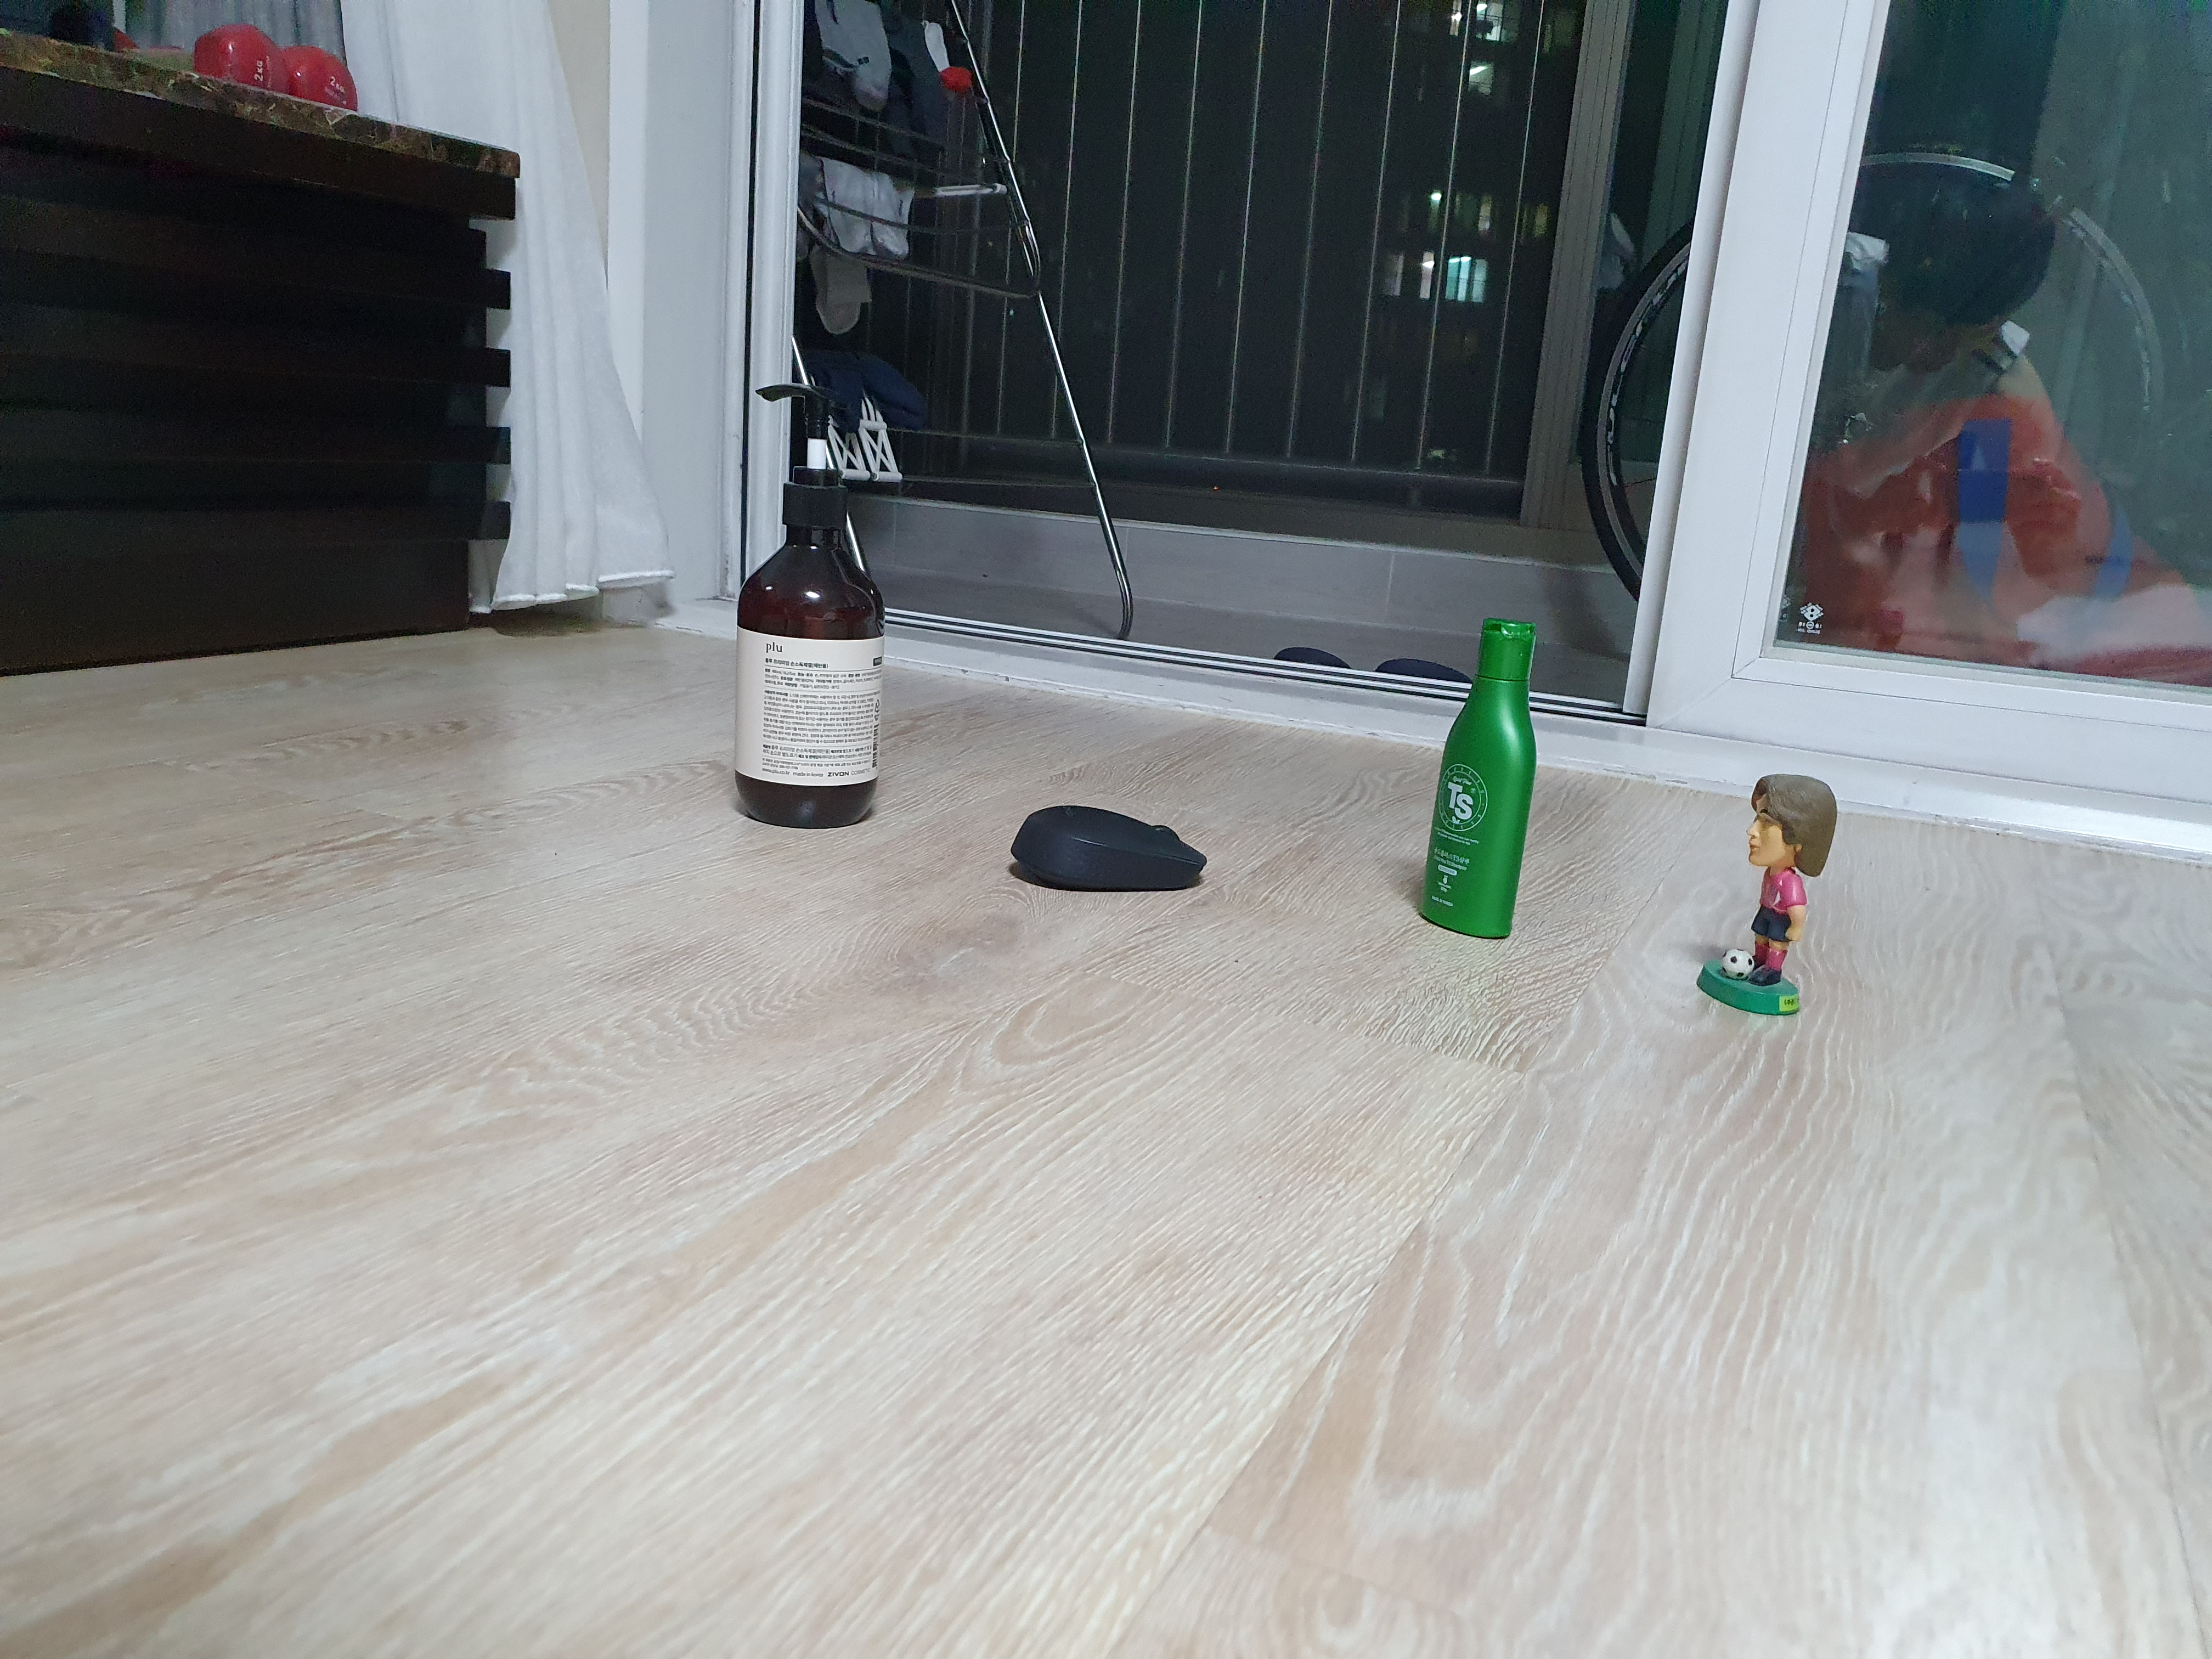bottle: (718, 369, 925, 871)
mouse: (1005, 791, 1259, 931)
shampoo: (1413, 599, 1573, 962)
yoo: (1710, 765, 1862, 1042)
